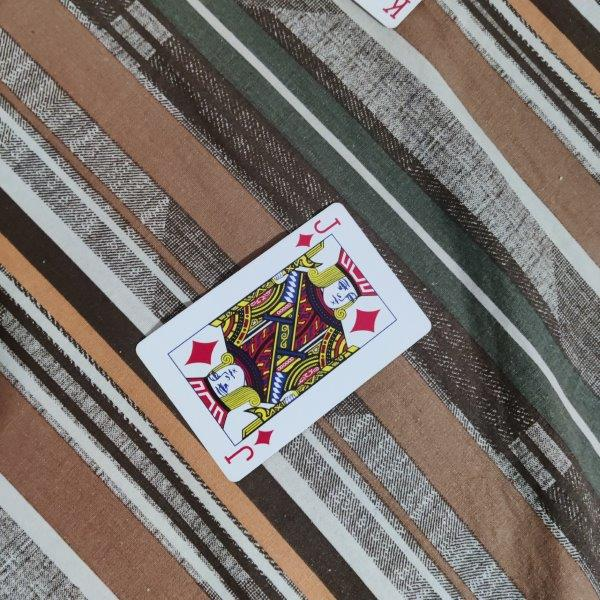Jack of Diamonds: (134, 202, 433, 483)
